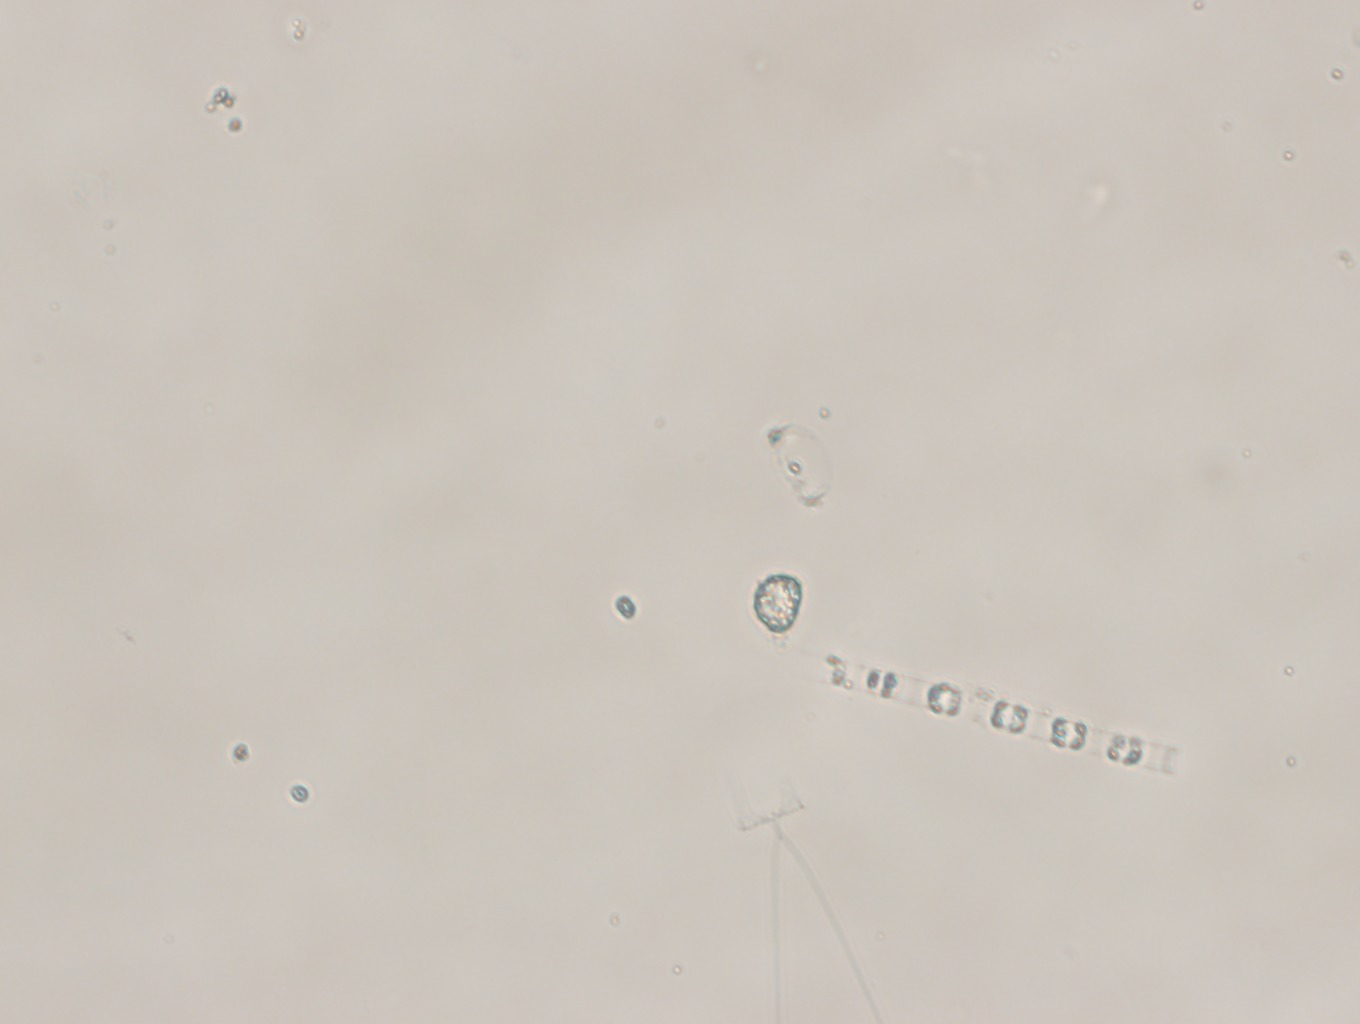skeletonema: (790, 648, 1184, 798)
